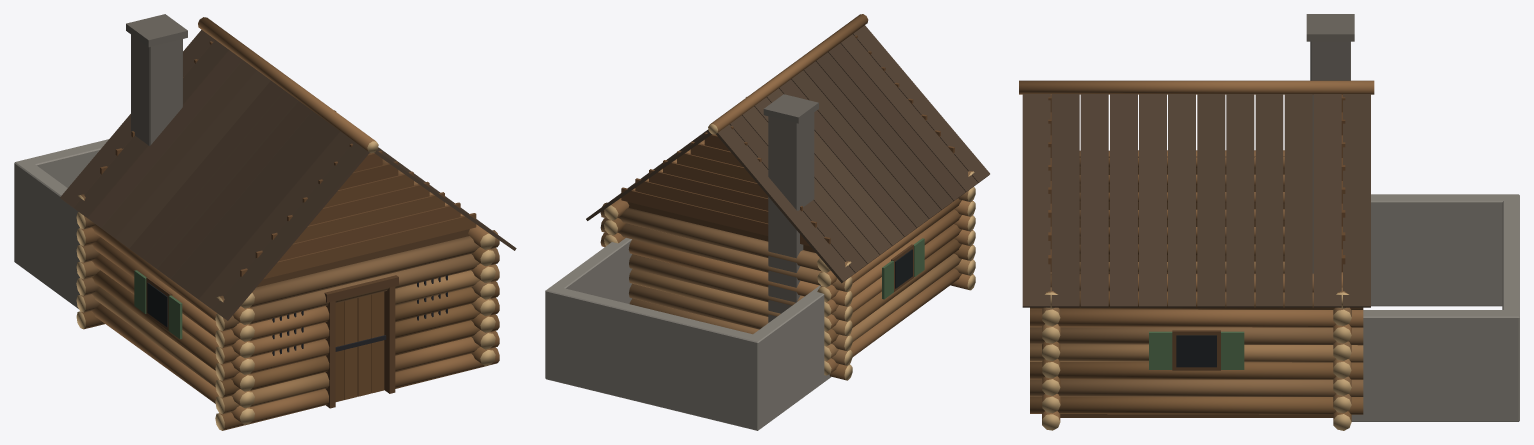
The model's file is jail_1.glb.
3 views of the same model, side by side, from view 1: azimuth 30°, elevation 25°; view 2: azimuth 150°, elevation 25°; view 3: azimuth 270°, elevation 25° (orthographic). The views are drawn at different scales.
Visible parts, largest first — view 1: jail1_log, jail1_roof, jail1_wood, jail1_stone, jail1_iron, jail1_glass; view 2: jail1_stone, jail1_roof, jail1_log, jail1_wood, jail1_glass; view 3: jail1_roof, jail1_log, jail1_stone, jail1_wood, jail1_glass.
Boxes of the visible parts, x1,y1,x2,y2 form: jail1_log: [76, 17, 499, 430]; jail1_roof: [60, 29, 516, 320]; jail1_wood: [100, 41, 476, 408]; jail1_stone: [14, 14, 187, 308]; jail1_iron: [272, 275, 447, 355]; jail1_glass: [147, 282, 167, 326]; jail1_stone: [545, 94, 831, 430]; jail1_roof: [586, 25, 989, 283]; jail1_log: [600, 14, 975, 380]; jail1_wood: [621, 35, 954, 299]; jail1_glass: [895, 249, 912, 288]; jail1_roof: [1022, 94, 1370, 307]; jail1_log: [1019, 80, 1374, 430]; jail1_stone: [1306, 14, 1519, 421]; jail1_wood: [1048, 94, 1345, 417]; jail1_glass: [1176, 335, 1216, 367].
Bounding box in the file's own units: 6.04 × 5.73 × 8.6.
